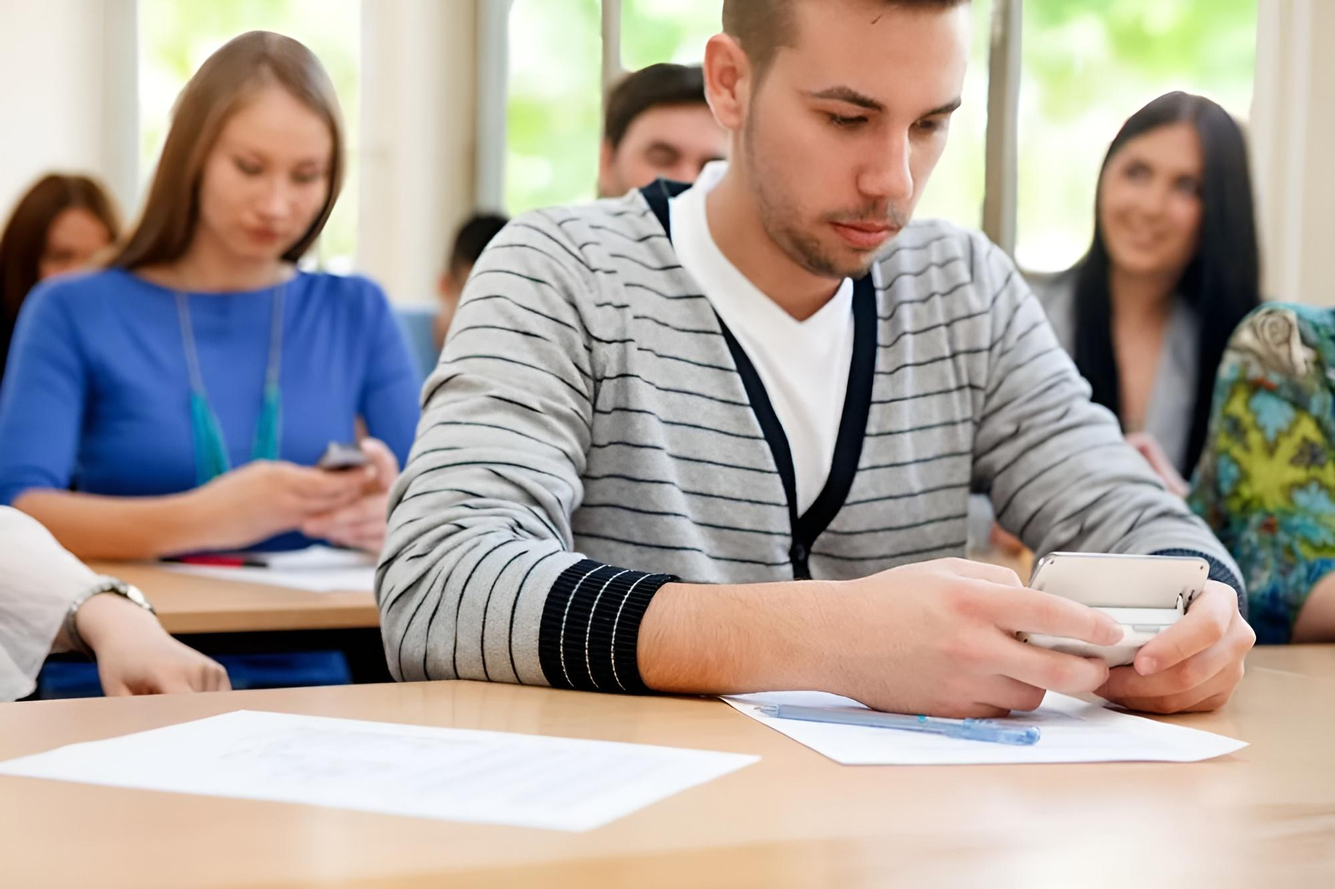phone: (374, 0, 1258, 731), (0, 31, 428, 558)
